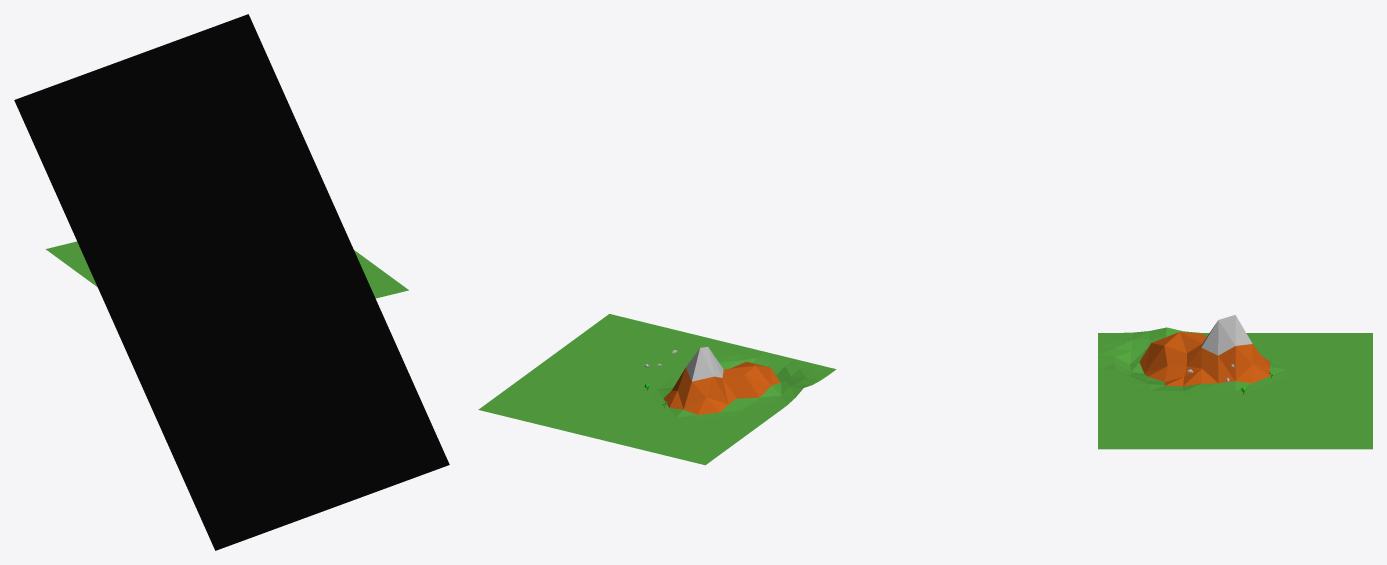
File: mountain__bigger.obj
3 views of the same model, side by side, from view 1: azimuth 30°, elevation 25°; view 2: azimuth 150°, elevation 25°; view 3: azimuth 270°, elevation 25° (orthographic). The views are drawn at different scales.
Parts seen in each view (by area): view 1: Plane.002, Plane; view 2: Plane; view 3: Plane.
Part boxes in pixels (<box>): Plane.002: <box>14,14,449,550</box>; Plane: <box>45,241,408,298</box>; Plane: <box>478,314,836,465</box>; Plane: <box>1098,315,1372,449</box>.
Size of the model in its own units: 38.05 by 54.7 by 38.22.
